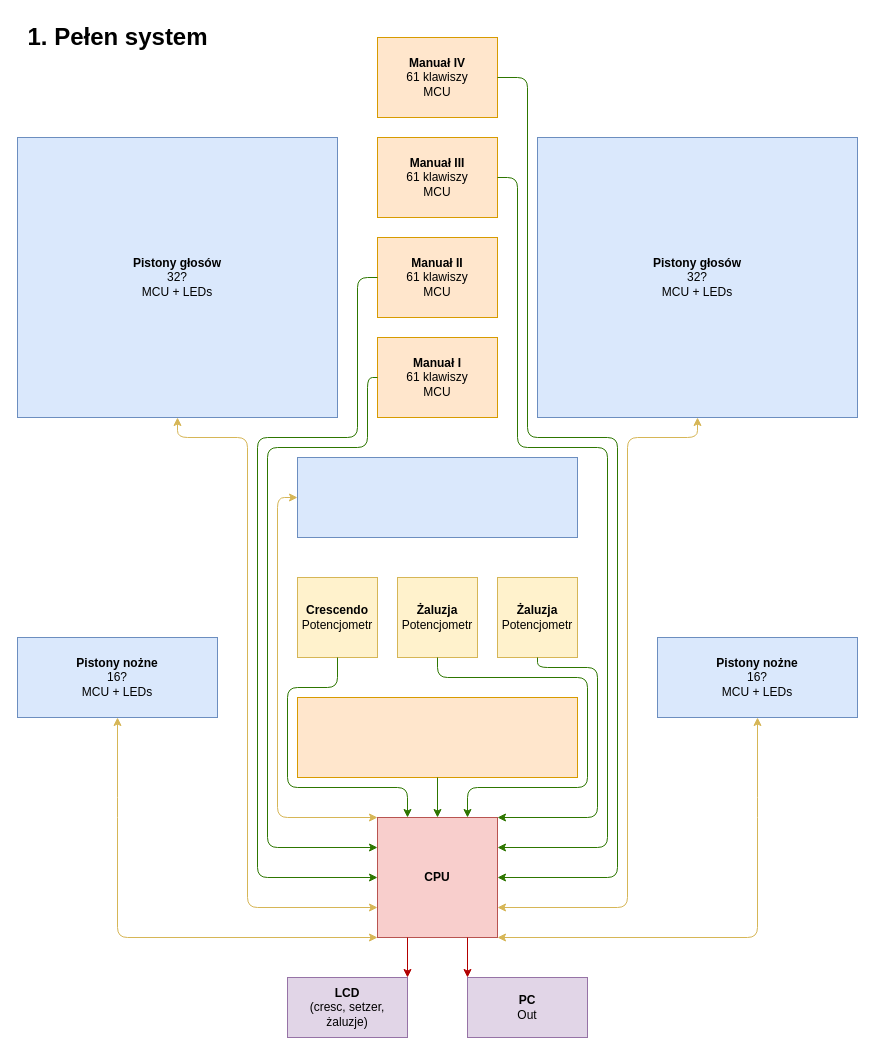
This 875x1055 diagram has some shape labels left out. Here are the shapes that lost their labels. From the top down, the box of each, then its label:
(296, 456, 578, 538): Pistony ręczne (16?) MCU + LEDs
(296, 696, 578, 778): Pedał 32 klawiszy MCU
